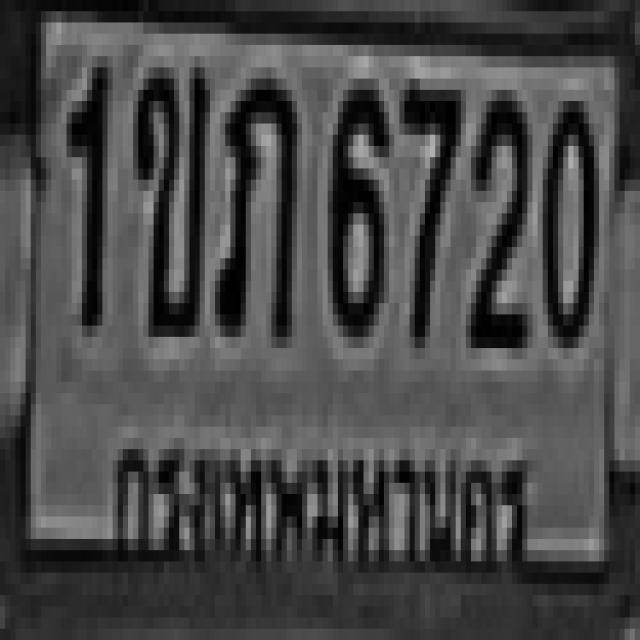0: (538, 90, 594, 337)
1: (64, 56, 105, 326)
11KhorKhai: (133, 56, 205, 326)
2: (466, 85, 527, 342)
41PhorSamPhao: (212, 73, 294, 331)
6: (328, 78, 384, 326)
7: (399, 78, 456, 336)
Bangkok: (102, 420, 534, 589)
